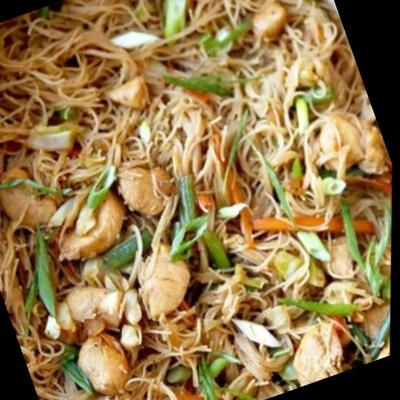pancit bihon: (0, 0, 397, 399)
